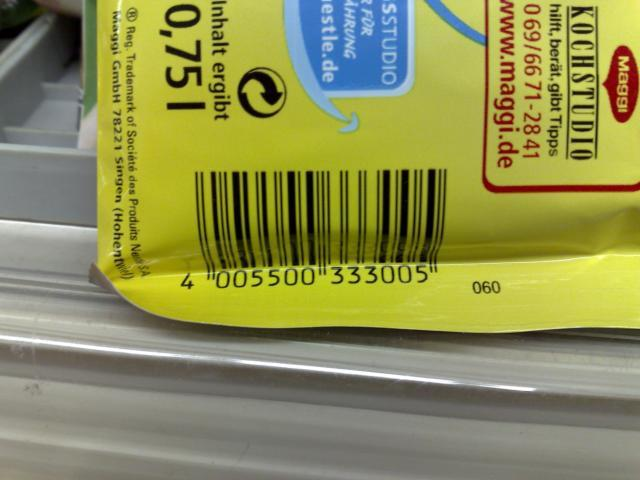Barcode: (177, 159, 456, 306)
